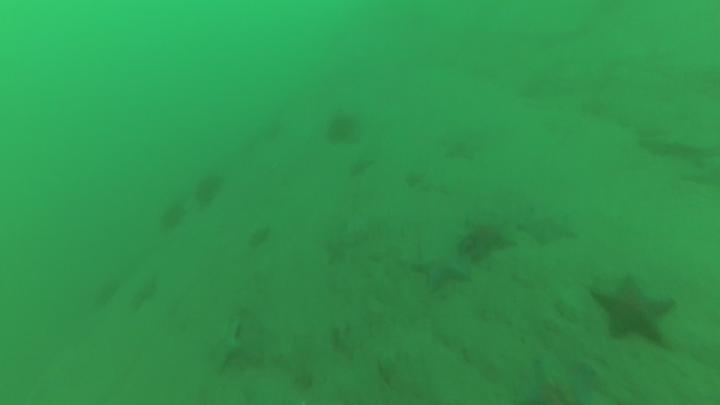echinus: (323, 110, 364, 148), (191, 171, 226, 209), (157, 200, 189, 233), (131, 274, 163, 307), (90, 276, 122, 309)
starfish: (589, 272, 679, 349), (511, 354, 603, 405), (409, 244, 472, 294), (457, 217, 518, 265), (517, 208, 578, 249), (204, 318, 247, 375)
